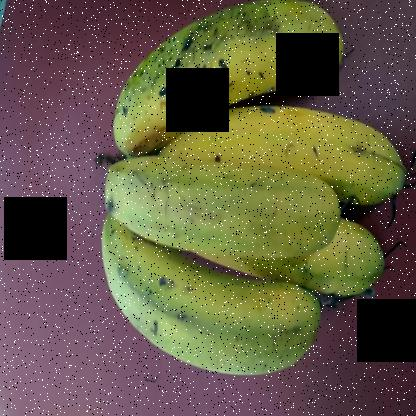ripe: (90, 246, 354, 394), (68, 138, 367, 256), (106, 0, 324, 148), (176, 101, 414, 196), (292, 209, 413, 307)
